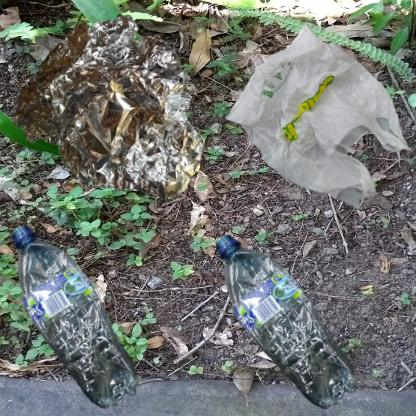aluminio: (10, 10, 209, 204)
bolsa: (213, 10, 416, 229)
botella: (213, 213, 378, 416), (10, 213, 148, 416)
